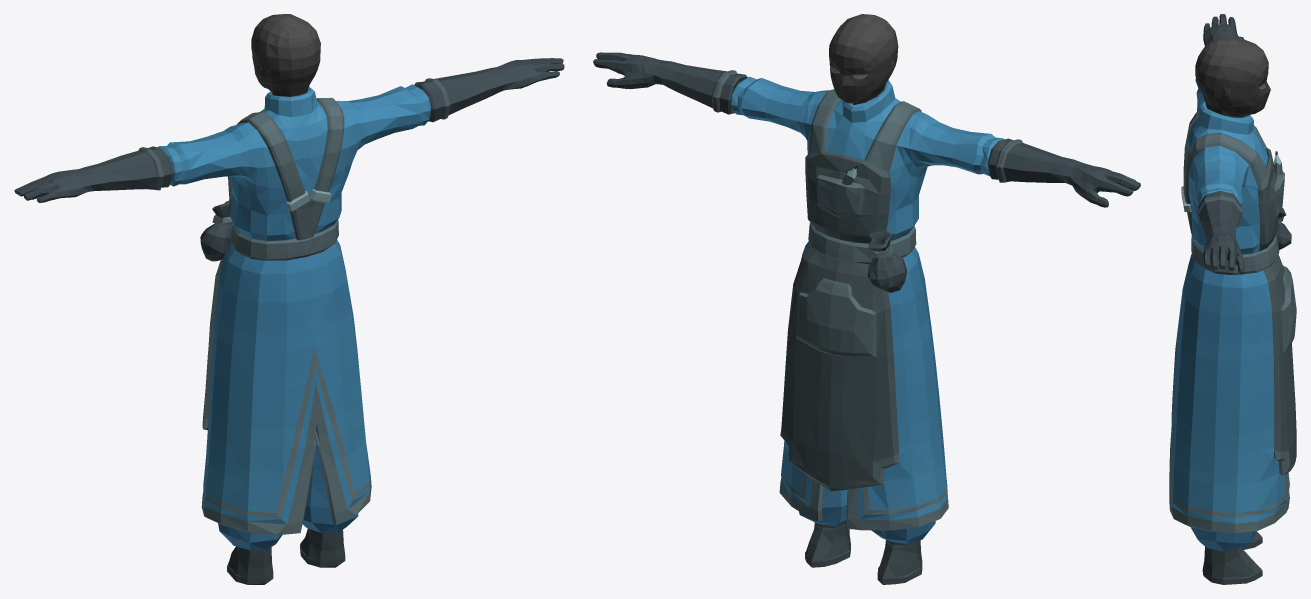
The model's file is NPC_AP22Designer.glb.
3 views of the same model, side by side, from view 1: azimuth 30°, elevation 25°; view 2: azimuth 150°, elevation 25°; view 3: azimuth 270°, elevation 25° (orthographic). The views are drawn at different scales.
Visible parts, largest first — view 1: NPC_AP22Designer; view 2: NPC_AP22Designer; view 3: NPC_AP22Designer.
Part boxes in pixels (bbox=[...]): NPC_AP22Designer: bbox=[14, 14, 564, 584]; NPC_AP22Designer: bbox=[593, 14, 1140, 584]; NPC_AP22Designer: bbox=[1169, 14, 1296, 584].
Bounding box in the file's own units: 14.22 × 13.69 × 3.05.
Materials: 1 (1 with a texture image).
